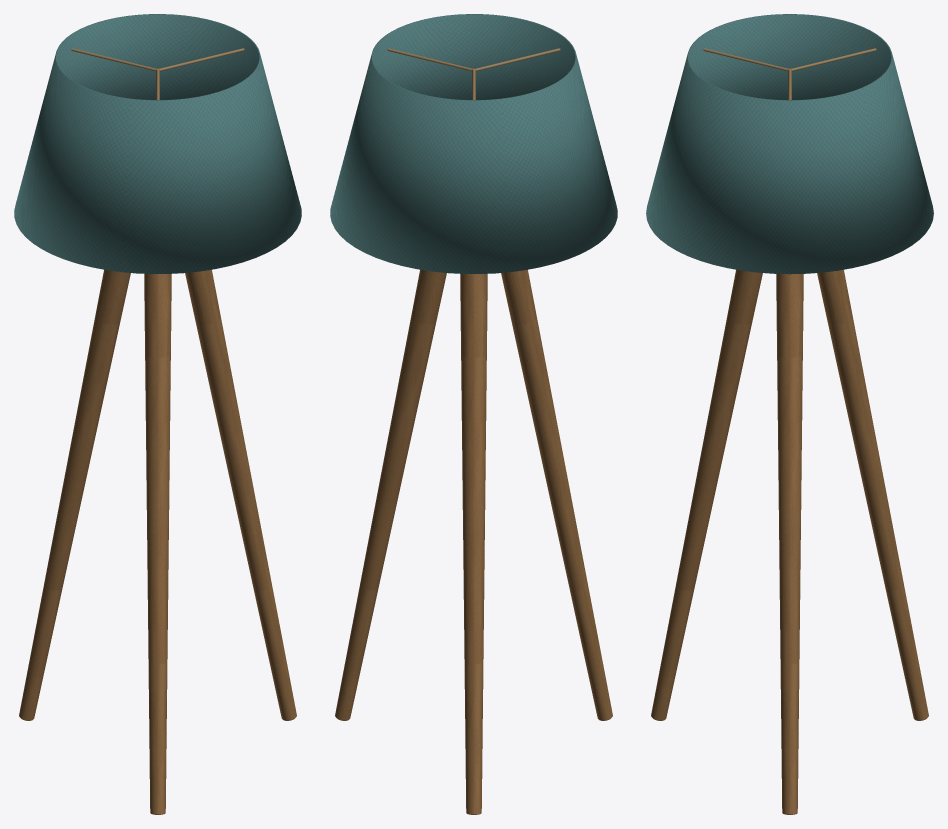
The model's file is chess-floor-lamp.glb.
3 renders of one model, left to right at view 1: azimuth 30°, elevation 25°; view 2: azimuth 150°, elevation 25°; view 3: azimuth 270°, elevation 25°, orthographic.
Visible parts, largest first — view 1: Floor tripod | open fabric shade, Floor tripod | tapered teak leg.002, Floor tripod | tapered teak leg.001, Floor tripod | tapered teak leg; view 2: Floor tripod | open fabric shade, Floor tripod | tapered teak leg.001, Floor tripod | tapered teak leg.002, Floor tripod | tapered teak leg; view 3: Floor tripod | open fabric shade, Floor tripod | tapered teak leg, Floor tripod | tapered teak leg.001, Floor tripod | tapered teak leg.002.
Part boxes in pixels (<box>): Floor tripod | open fabric shade: <box>14,14,301,273</box>; Floor tripod | tapered teak leg.002: <box>144,274,171,814</box>; Floor tripod | tapered teak leg.001: <box>19,269,130,720</box>; Floor tripod | tapered teak leg: <box>185,269,296,720</box>; Floor tripod | open fabric shade: <box>330,14,617,273</box>; Floor tripod | tapered teak leg.001: <box>460,274,487,814</box>; Floor tripod | tapered teak leg.002: <box>501,269,612,720</box>; Floor tripod | tapered teak leg: <box>335,269,446,720</box>; Floor tripod | open fabric shade: <box>646,14,933,274</box>; Floor tripod | tapered teak leg: <box>776,274,803,814</box>; Floor tripod | tapered teak leg.001: <box>817,269,928,720</box>; Floor tripod | tapered teak leg.002: <box>651,269,762,720</box>.
Size of the model in its own units: 0.6233 by 1.57 by 0.592.
Materials: 5 (5 with a texture image).
